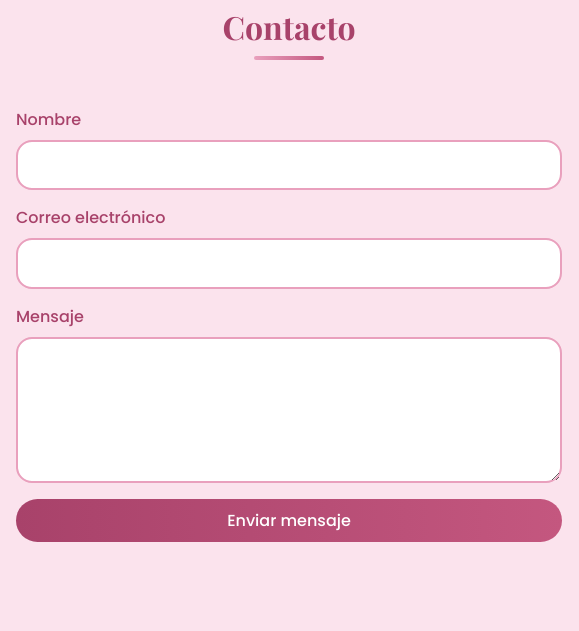
it: Componente Contacto › debe mostrar mensaje al enviar formulario
The width and height of the screenshot is (579, 631).
Type "Rosy" into the field labelled "Nombre" at [289, 165], box x1=16 y1=140 x2=562 y2=190
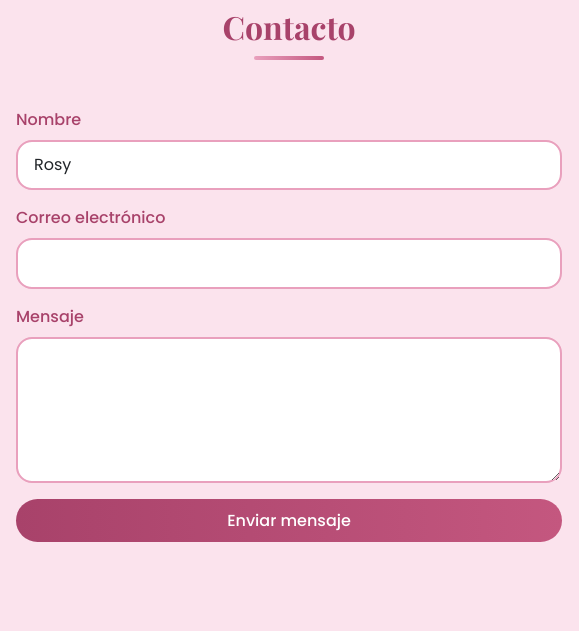
Type "rosy@correo.com" into the field labelled "Correo electrónico" at [289, 264], box x1=16 y1=238 x2=562 y2=289
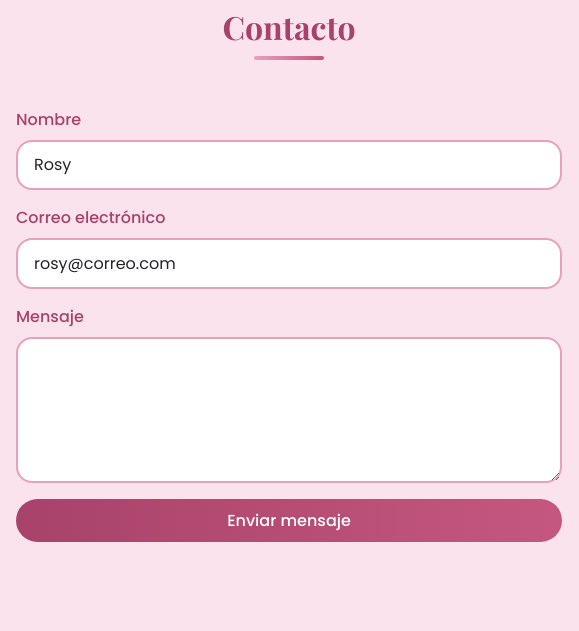
Type "Hola, me gustaría contactarte." into the text box labelled "Mensaje" at [289, 410], box x1=16 y1=337 x2=562 y2=483
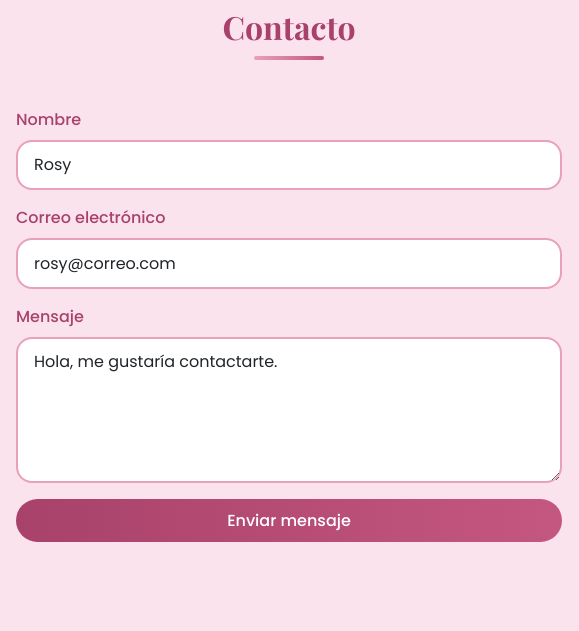
Click the button "Enviar mensaje" at [289, 521], box x1=16 y1=499 x2=562 y2=542
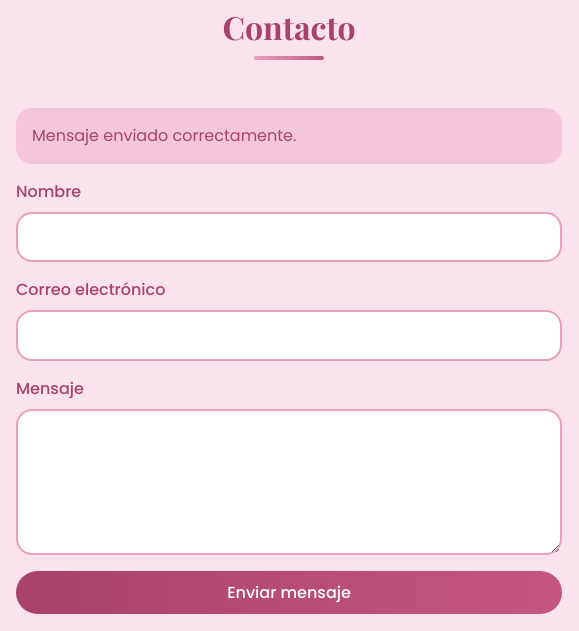
Expected: the text "Mensaje enviado correctamente." is shown, x1=16 y1=108 x2=562 y2=164
